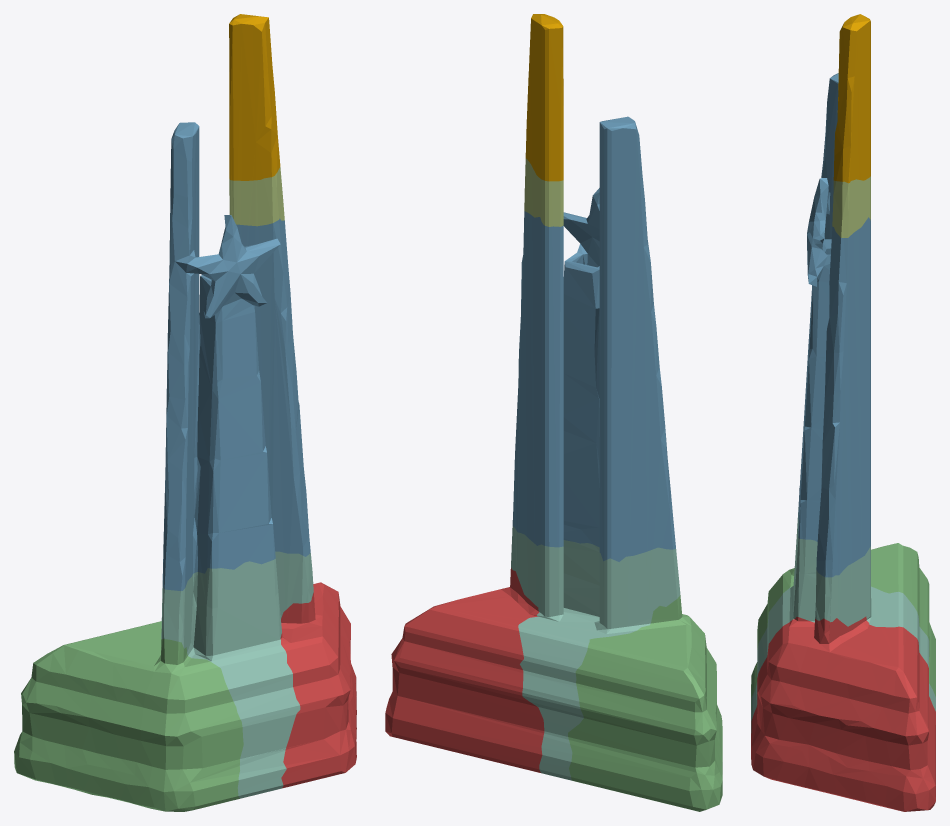
The model's file is fractured_4_6pcs.glb.
3 views of the same model, side by side, from view 1: azimuth 30°, elevation 25°; view 2: azimuth 150°, elevation 25°; view 3: azimuth 270°, elevation 25° (orthographic).
Parts seen in each view (by area): view 1: piece_2.obj, piece_3.obj, piece_4.obj, piece_1.obj, piece_0.obj, piece_5.obj; view 2: piece_2.obj, piece_3.obj, piece_1.obj, piece_4.obj, piece_0.obj, piece_5.obj; view 3: piece_1.obj, piece_2.obj, piece_4.obj, piece_0.obj, piece_3.obj, piece_5.obj.
Boxes of the visible parts, bbox=[...] form: piece_2.obj: bbox=[162, 122, 310, 590]; piece_3.obj: bbox=[14, 621, 243, 811]; piece_4.obj: bbox=[161, 551, 313, 798]; piece_1.obj: bbox=[280, 582, 356, 788]; piece_0.obj: bbox=[229, 14, 280, 180]; piece_5.obj: bbox=[229, 167, 284, 226]; piece_2.obj: bbox=[512, 116, 675, 561]; piece_3.obj: bbox=[568, 595, 722, 811]; piece_1.obj: bbox=[385, 568, 544, 772]; piece_4.obj: bbox=[511, 526, 680, 780]; piece_0.obj: bbox=[525, 14, 563, 181]; piece_5.obj: bbox=[524, 158, 563, 226]; piece_1.obj: bbox=[751, 616, 935, 811]; piece_2.obj: bbox=[798, 73, 870, 577]; piece_4.obj: bbox=[751, 507, 935, 732]; piece_0.obj: bbox=[833, 14, 870, 183]; piece_3.obj: bbox=[751, 543, 935, 709]; piece_5.obj: bbox=[832, 176, 870, 237].
Bounding box in the file's own units: 0.4818 × 1 × 0.2292.
